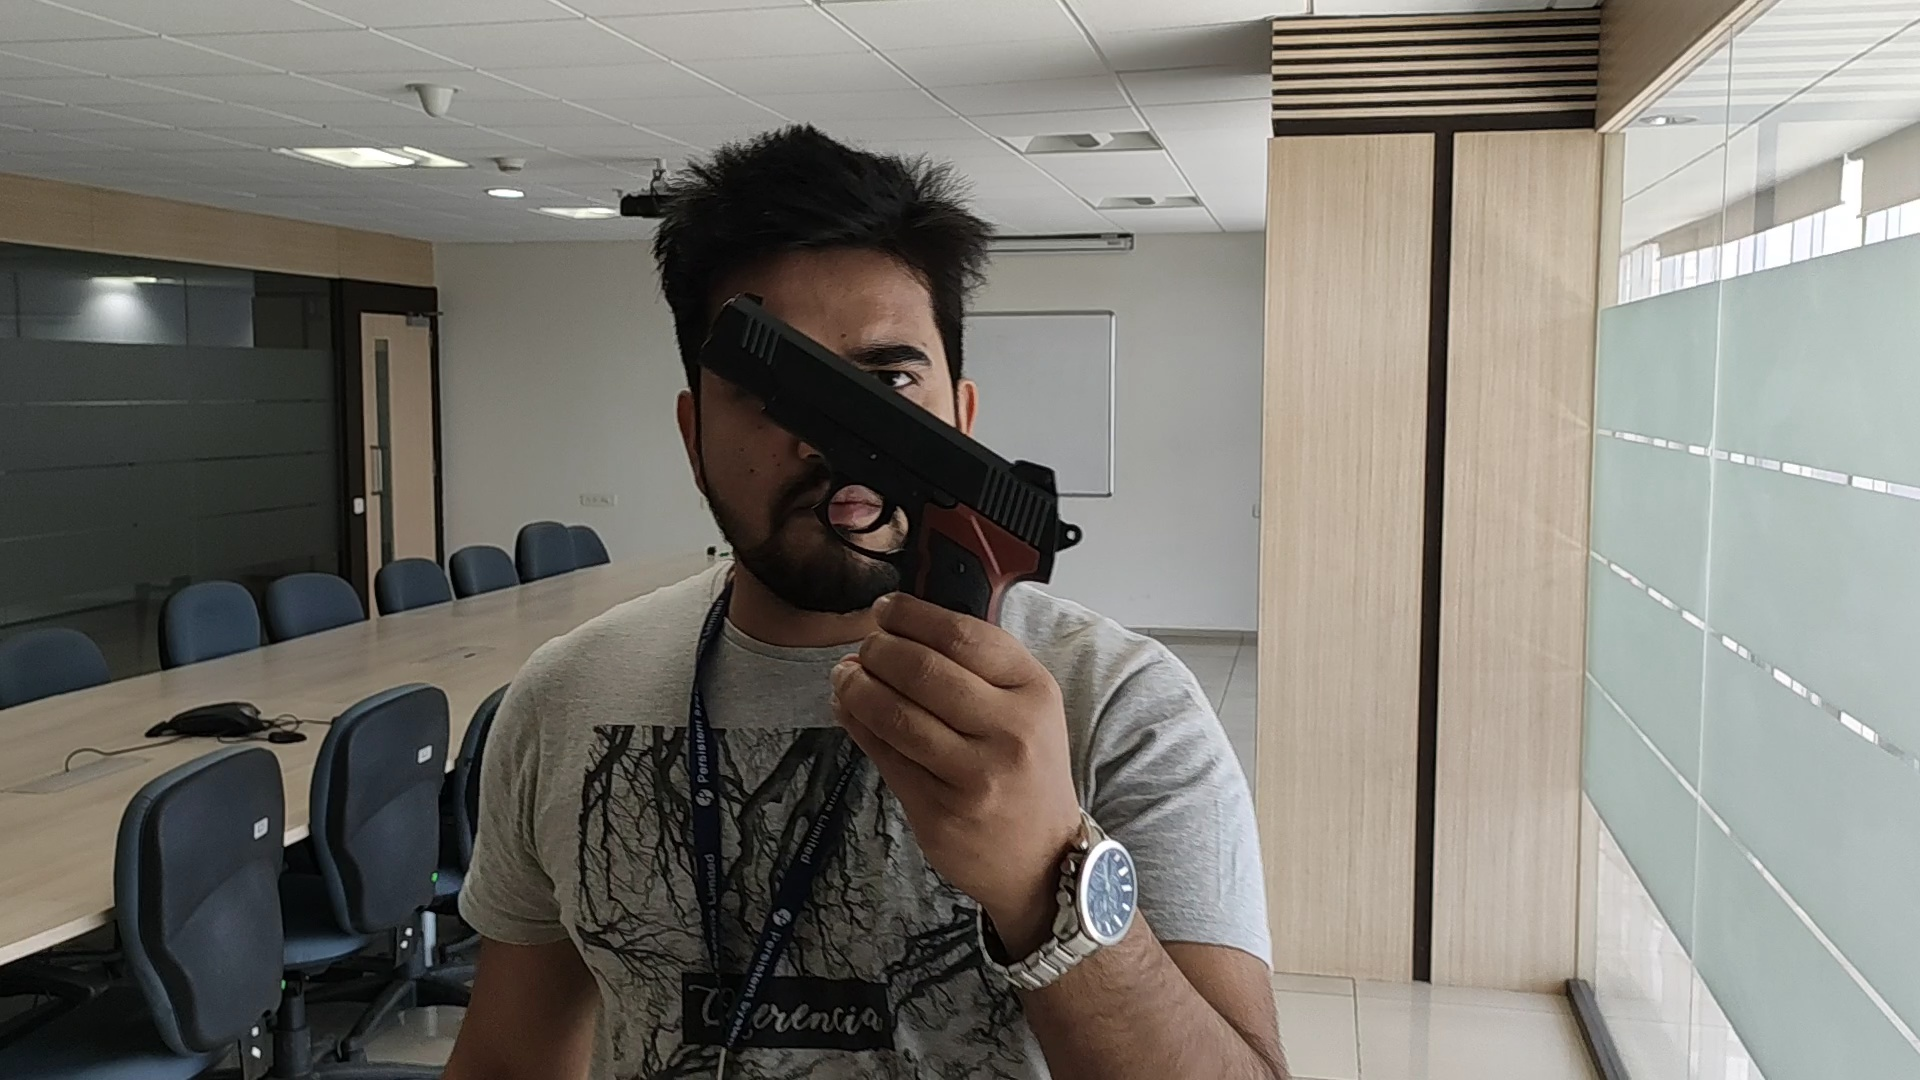gun: (695, 293, 1083, 589)
